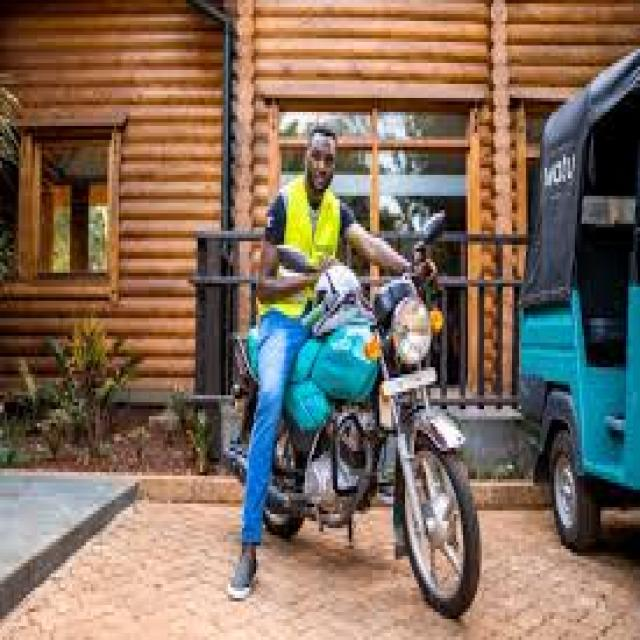bodaboda: (183, 193, 541, 640)
